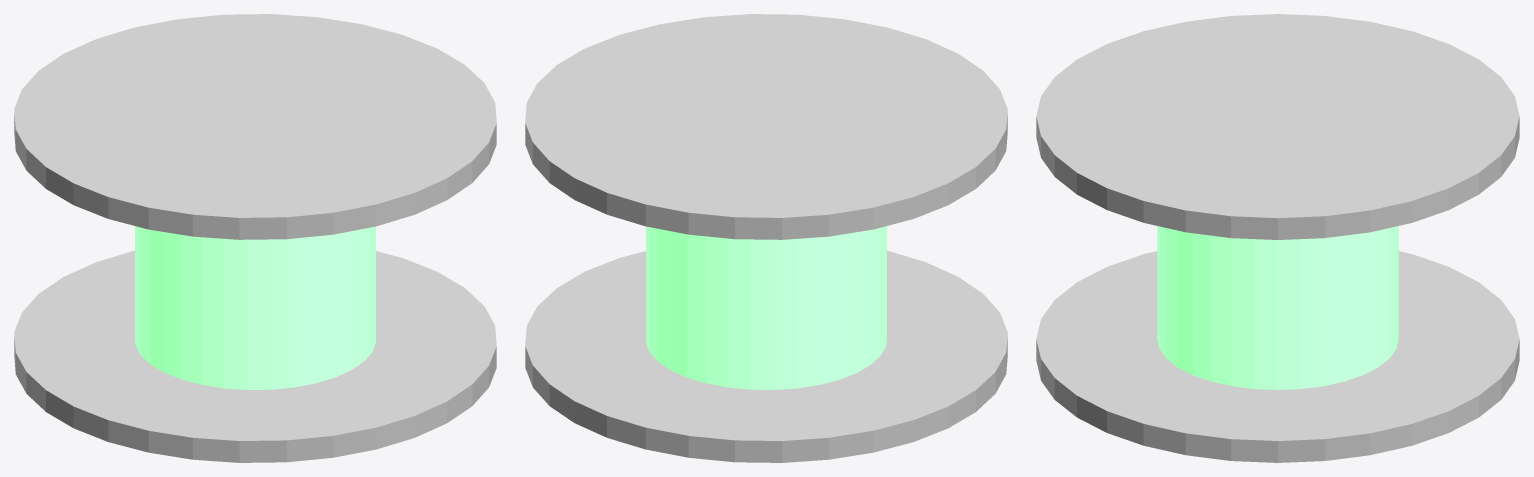
File: bobina2.gltf
The picture shows the model from 3 angles, left to right: view 1: azimuth 30°, elevation 25°; view 2: azimuth 150°, elevation 25°; view 3: azimuth 270°, elevation 25°; orthographic projection.
Visible parts, largest first — view 1: Cylinder.001, Cylinder.002, Cylinder; view 2: Cylinder.001, Cylinder.002, Cylinder; view 3: Cylinder.001, Cylinder.002, Cylinder.
Part boxes in pixels (<box>): Cylinder.001: <box>14,14,496,239</box>; Cylinder.002: <box>14,250,496,462</box>; Cylinder: <box>135,226,375,389</box>; Cylinder.001: <box>525,14,1007,239</box>; Cylinder.002: <box>525,250,1007,462</box>; Cylinder: <box>646,226,886,389</box>; Cylinder.001: <box>1036,14,1519,239</box>; Cylinder.002: <box>1036,251,1519,462</box>; Cylinder: <box>1157,226,1398,389</box>.
Bounding box in the file's own units: 40 × 22.36 × 40.
